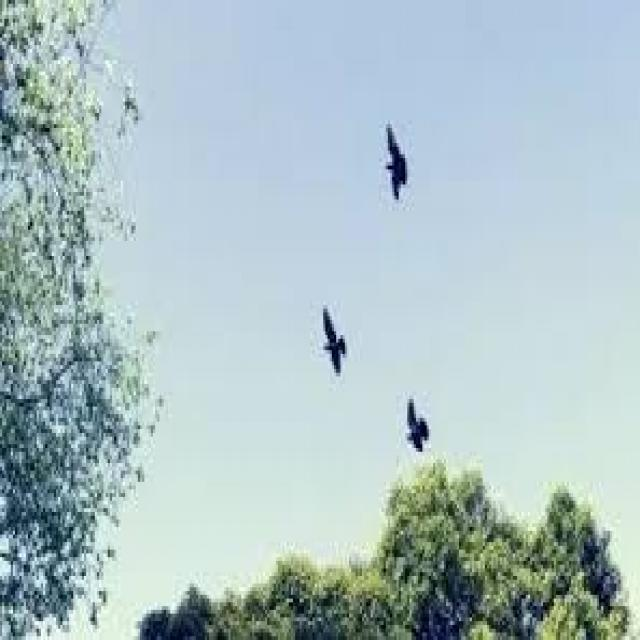bird: (370, 322, 444, 484), (286, 241, 360, 395), (367, 56, 408, 218)
